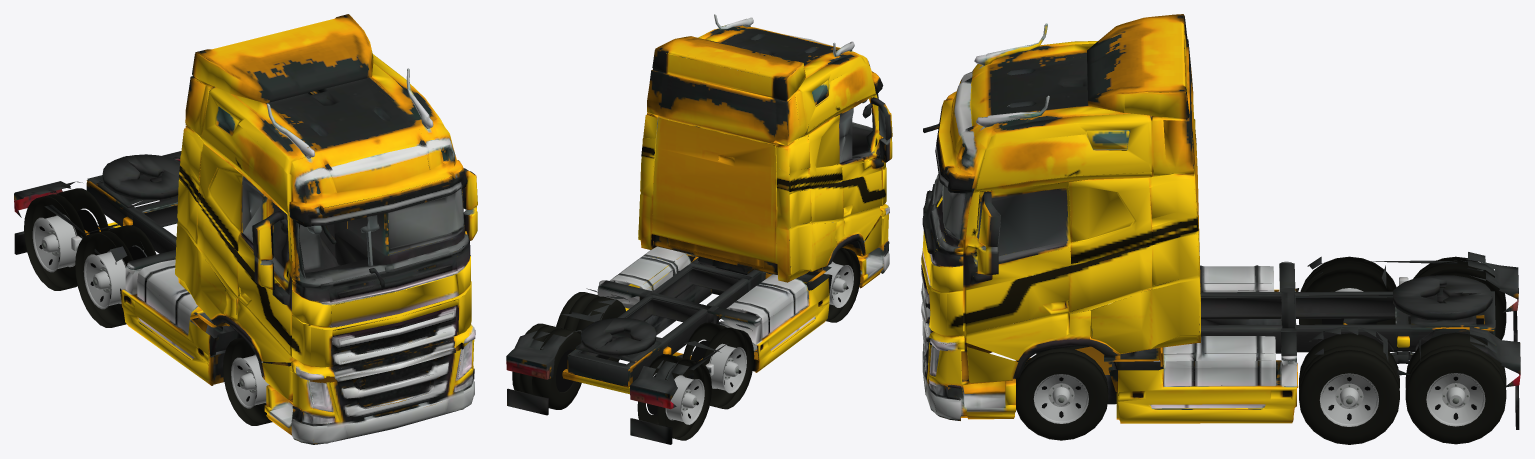
Rendered from carreta-cab-2.glb.
3 renders of one model, left to right at view 1: azimuth 30°, elevation 25°; view 2: azimuth 150°, elevation 25°; view 3: azimuth 270°, elevation 25°, orthographic. The views are drawn at different scales.
Parts seen in each view (by area): view 1: Frota_cab, Tyre_Rear2_L, Tyre_Rear_L, Tyre_Front_L; view 2: Frota_cab, Tyre_Rear_L, Tyre_Rear2_L, Tyre_Rear2_R, Tyre_Front_L, Tyre_Rear_R; view 3: Frota_cab, Tyre_Rear_R, Tyre_Rear2_R, Tyre_Front_R, Tyre_Rear_L, Tyre_Rear2_L.
Boxes of the visible parts, x1=… form: Frota_cab: x1=14, y1=14, x2=477, y2=444; Tyre_Rear2_L: x1=24, y1=188, x2=109, y2=290; Tyre_Rear_L: x1=75, y1=225, x2=156, y2=327; Tyre_Front_L: x1=223, y1=337, x2=272, y2=425; Frota_cab: x1=506, y1=14, x2=892, y2=444; Tyre_Rear_L: x1=682, y1=322, x2=754, y2=409; Tyre_Rear2_L: x1=637, y1=354, x2=711, y2=440; Tyre_Rear2_R: x1=512, y1=323, x2=581, y2=409; Tyre_Front_L: x1=809, y1=247, x2=860, y2=322; Tyre_Rear_R: x1=556, y1=292, x2=625, y2=362; Frota_cab: x1=921, y1=14, x2=1520, y2=429; Tyre_Rear_R: x1=1299, y1=333, x2=1399, y2=444; Tyre_Rear2_R: x1=1405, y1=332, x2=1506, y2=444; Tyre_Front_R: x1=1016, y1=348, x2=1108, y2=440; Tyre_Rear_L: x1=1299, y1=256, x2=1396, y2=324; Tyre_Rear2_L: x1=1408, y1=256, x2=1506, y2=339.
Size of the model in its own units: 3.03 by 4.29 by 6.8.
1 material, 1 textured.
